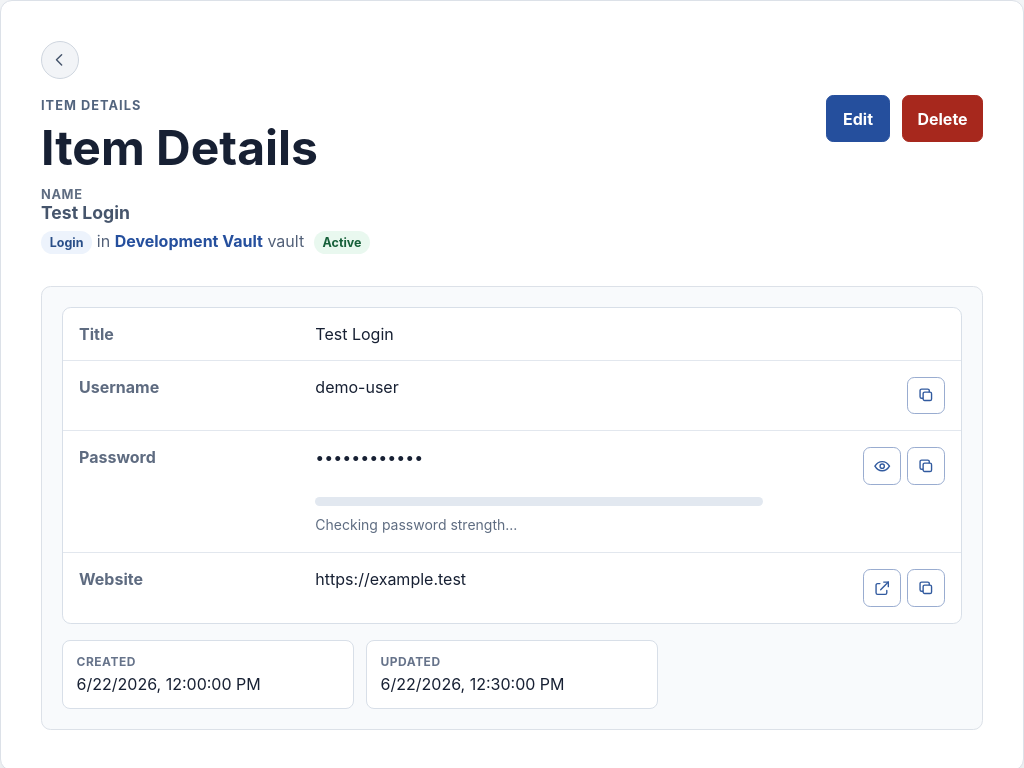
Scenario: ItemDetailPage › requires confirmation before recoverable deletion
The width and height of the screenshot is (1024, 768).
Click the button "Delete": point(942, 119) [902, 95, 983, 142]
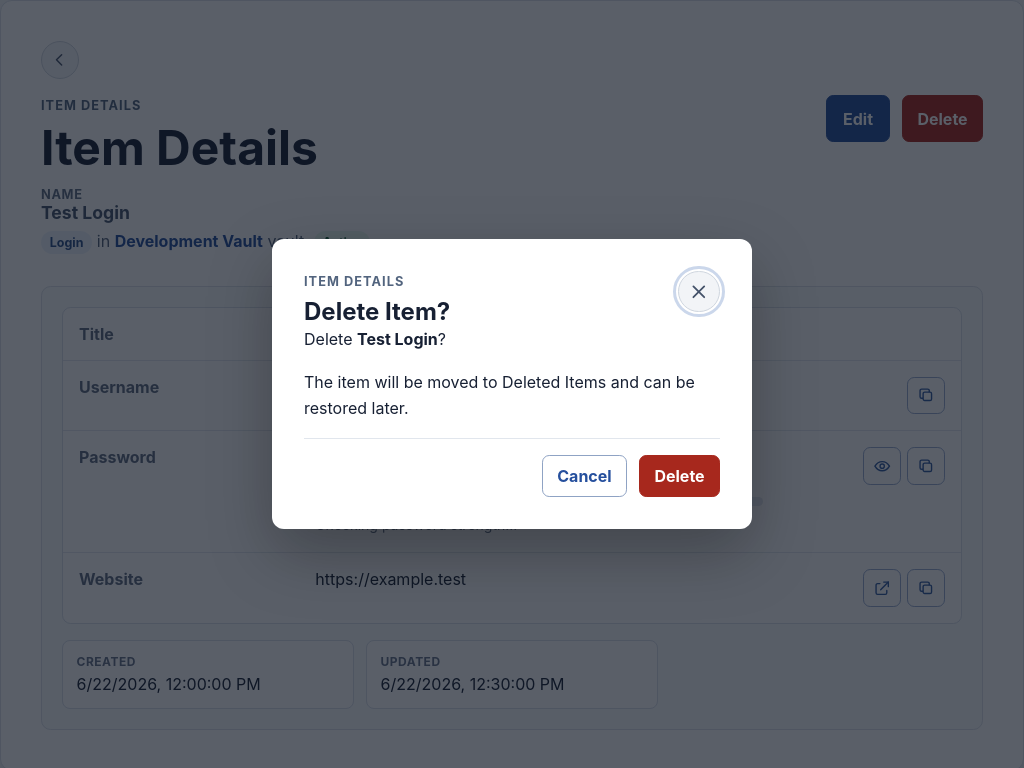
Click the button "Delete": point(680, 476) [639, 454, 720, 497]
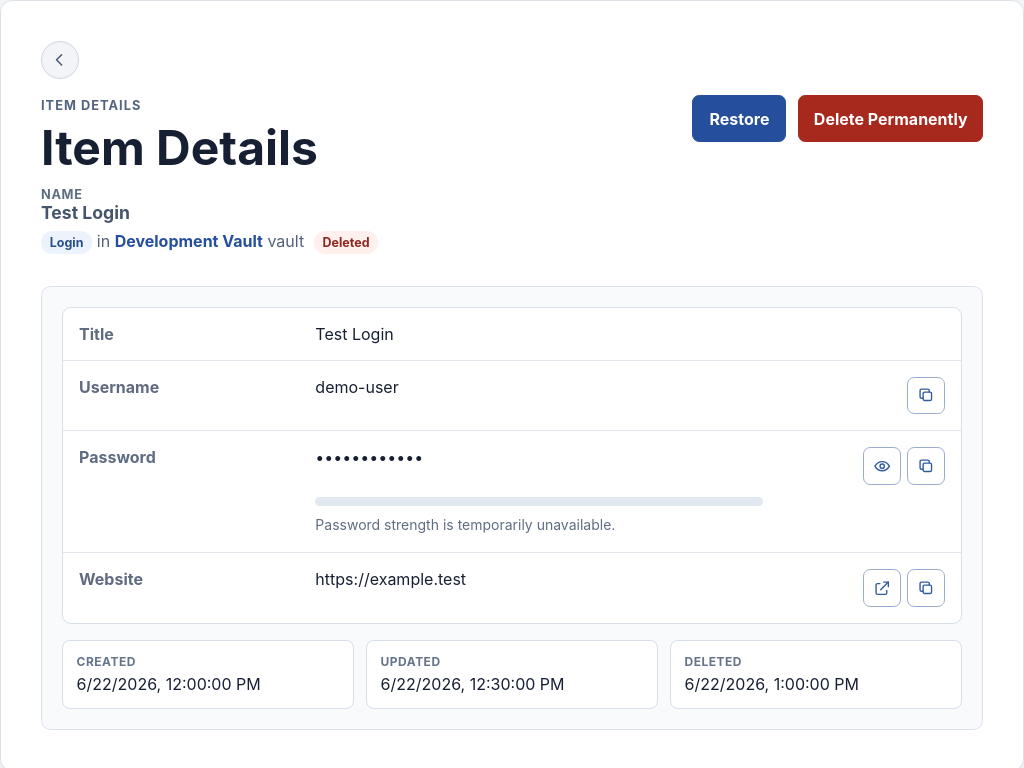
Result: the button "Restore" is shown at [692, 95, 786, 142]
